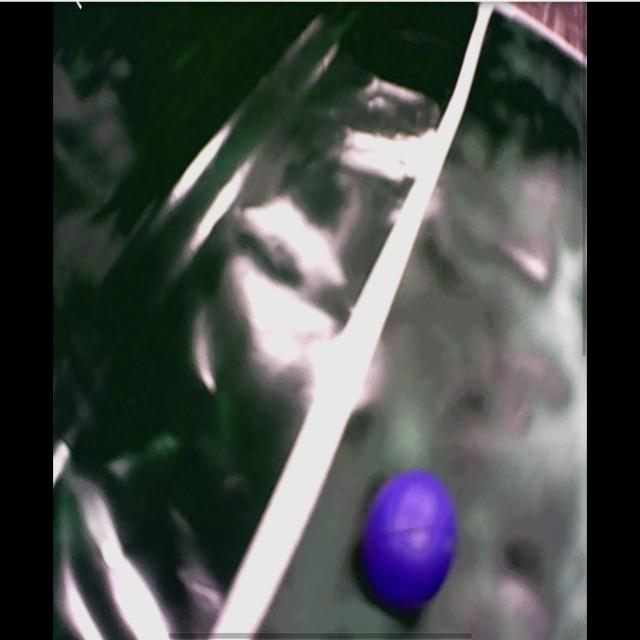ball: (366, 473, 455, 604)
